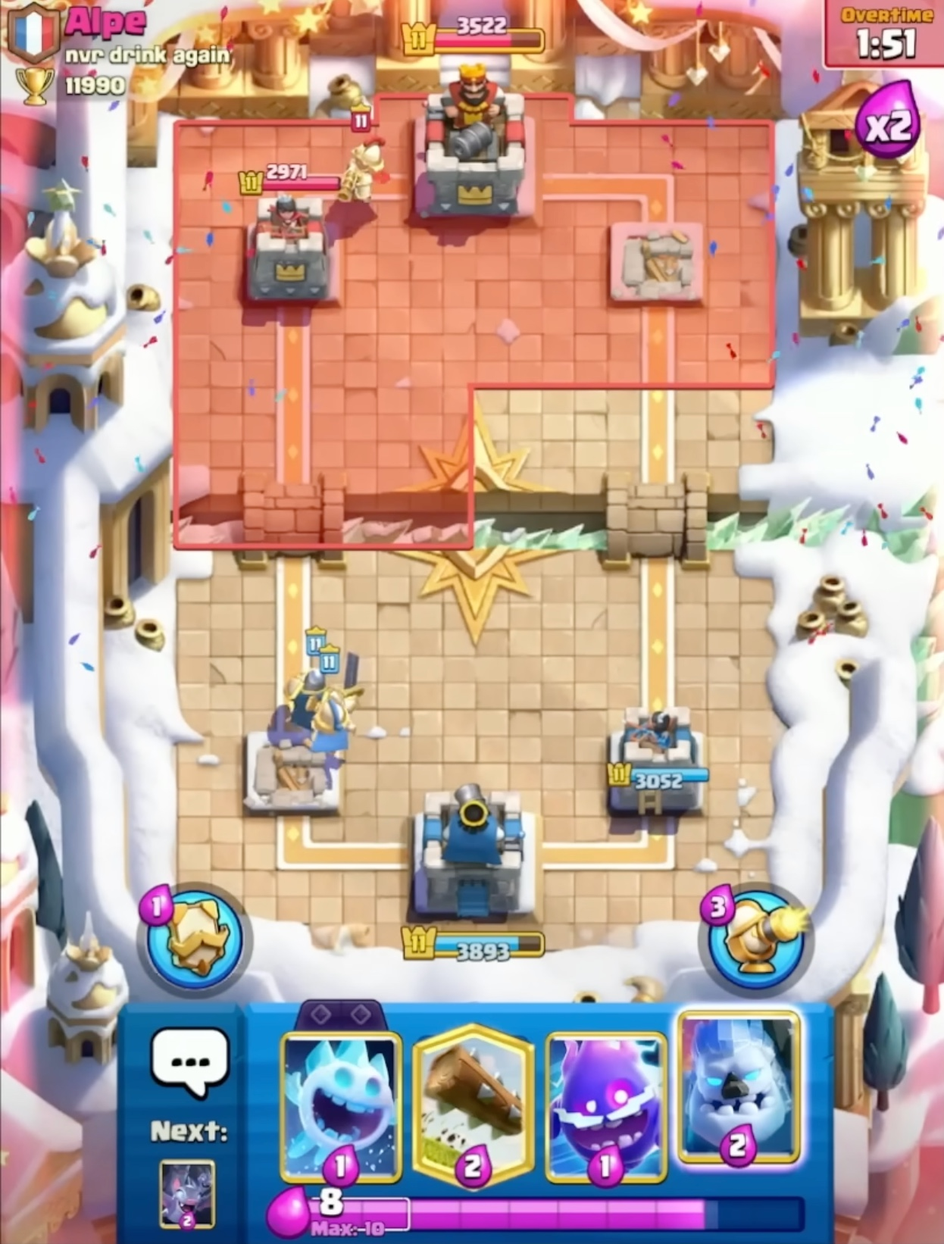hero-musketeer: (332, 101, 390, 216)
